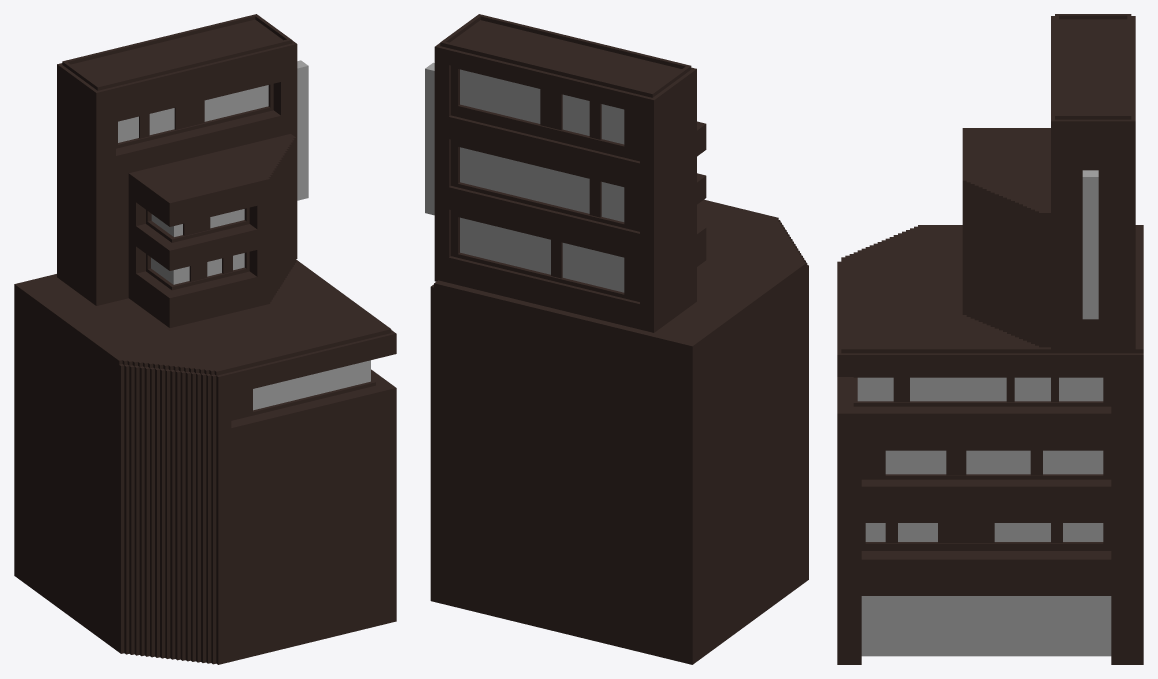
The model's file is Building_Mesh_001.fbx.
3 views of the same model, side by side, from view 1: azimuth 30°, elevation 25°; view 2: azimuth 150°, elevation 25°; view 3: azimuth 270°, elevation 25° (orthographic). The views are drawn at different scales.
Visible parts, largest first — view 1: Building_001; view 2: Building_001; view 3: Building_001.
Part boxes in pixels (bbox=[...]): Building_001: bbox=[14, 14, 396, 664]; Building_001: bbox=[425, 14, 808, 664]; Building_001: bbox=[837, 14, 1143, 664].
Bounding box in the file's own units: 8.2 × 14.99 × 7.6.
